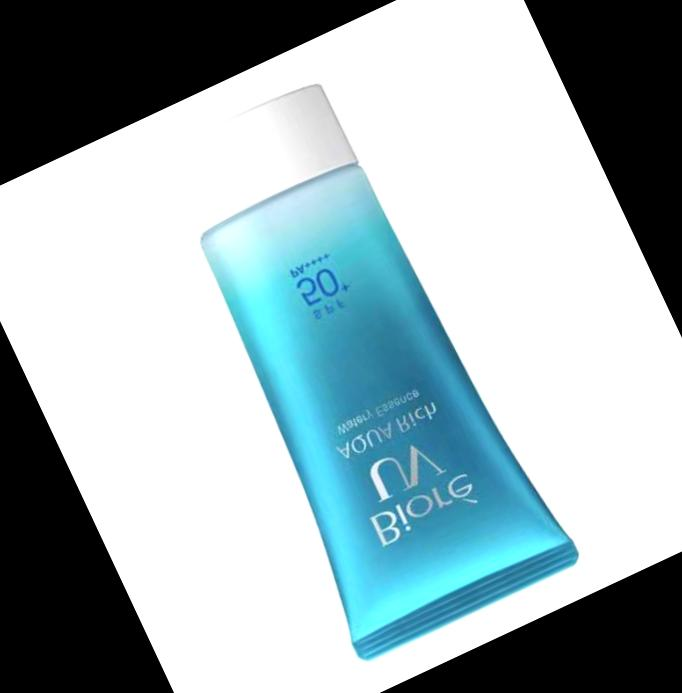cosmetic: (125, 61, 584, 667)
